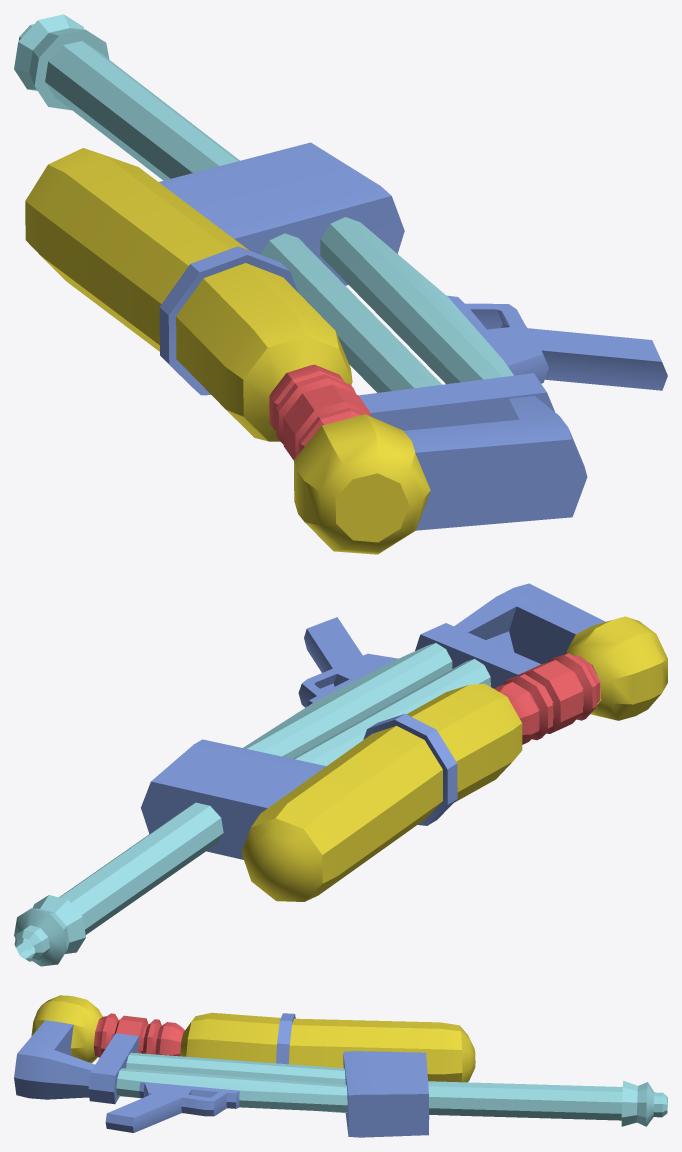
File: Water_Gun.fbx
3 views of the same model, one above another, from view 1: azimuth 30°, elevation 25°; view 2: azimuth 150°, elevation 25°; view 3: azimuth 270°, elevation 25° (orthographic). The views are drawn at different scales.
Visible parts, largest first — view 1: Cylinder.013, Cylinder.015, Cylinder.016, Cylinder.017, Cylinder.018, Cylinder.020, Cylinder.014, Cylinder.019; view 2: Cylinder.013, Cylinder.018, Cylinder.016, Cylinder.017, Cylinder.015, Cylinder.014, Cylinder.020, Cylinder.019; view 3: Cylinder.013, Cylinder.016, Cylinder.018, Cylinder.017, Cylinder.015, Cylinder.020, Cylinder.014, Cylinder.019.
Part boxes in pixels (box(x1,y1,x2,y2)): Cylinder.013: box(25, 148, 430, 554); Cylinder.015: box(358, 373, 587, 530); Cylinder.016: box(260, 217, 513, 392); Cylinder.017: box(159, 142, 404, 285); Cylinder.018: box(14, 14, 239, 180); Cylinder.020: box(447, 295, 667, 390); Cylinder.014: box(269, 364, 371, 460); Cylinder.019: box(159, 246, 298, 395); Cylinder.013: box(241, 616, 667, 901); Cylinder.018: box(14, 802, 223, 966); Cylinder.016: box(243, 643, 490, 766); Cylinder.017: box(141, 739, 326, 859); Cylinder.015: box(415, 583, 605, 688); Cylinder.014: box(494, 653, 600, 744); Cylinder.020: box(298, 617, 397, 707); Cylinder.019: box(363, 713, 457, 825); Cylinder.013: box(31, 995, 475, 1082); Cylinder.016: box(116, 1052, 347, 1112); Cylinder.018: box(428, 1080, 667, 1126); Cylinder.017: box(343, 1051, 429, 1137); Cylinder.015: box(14, 1020, 139, 1104); Cylinder.020: box(105, 1082, 239, 1132); Cylinder.014: box(93, 1013, 184, 1057); Cylinder.019: box(276, 1013, 295, 1064).
Size of the model in its own units: 37.89 by 12.07 by 96.06.
